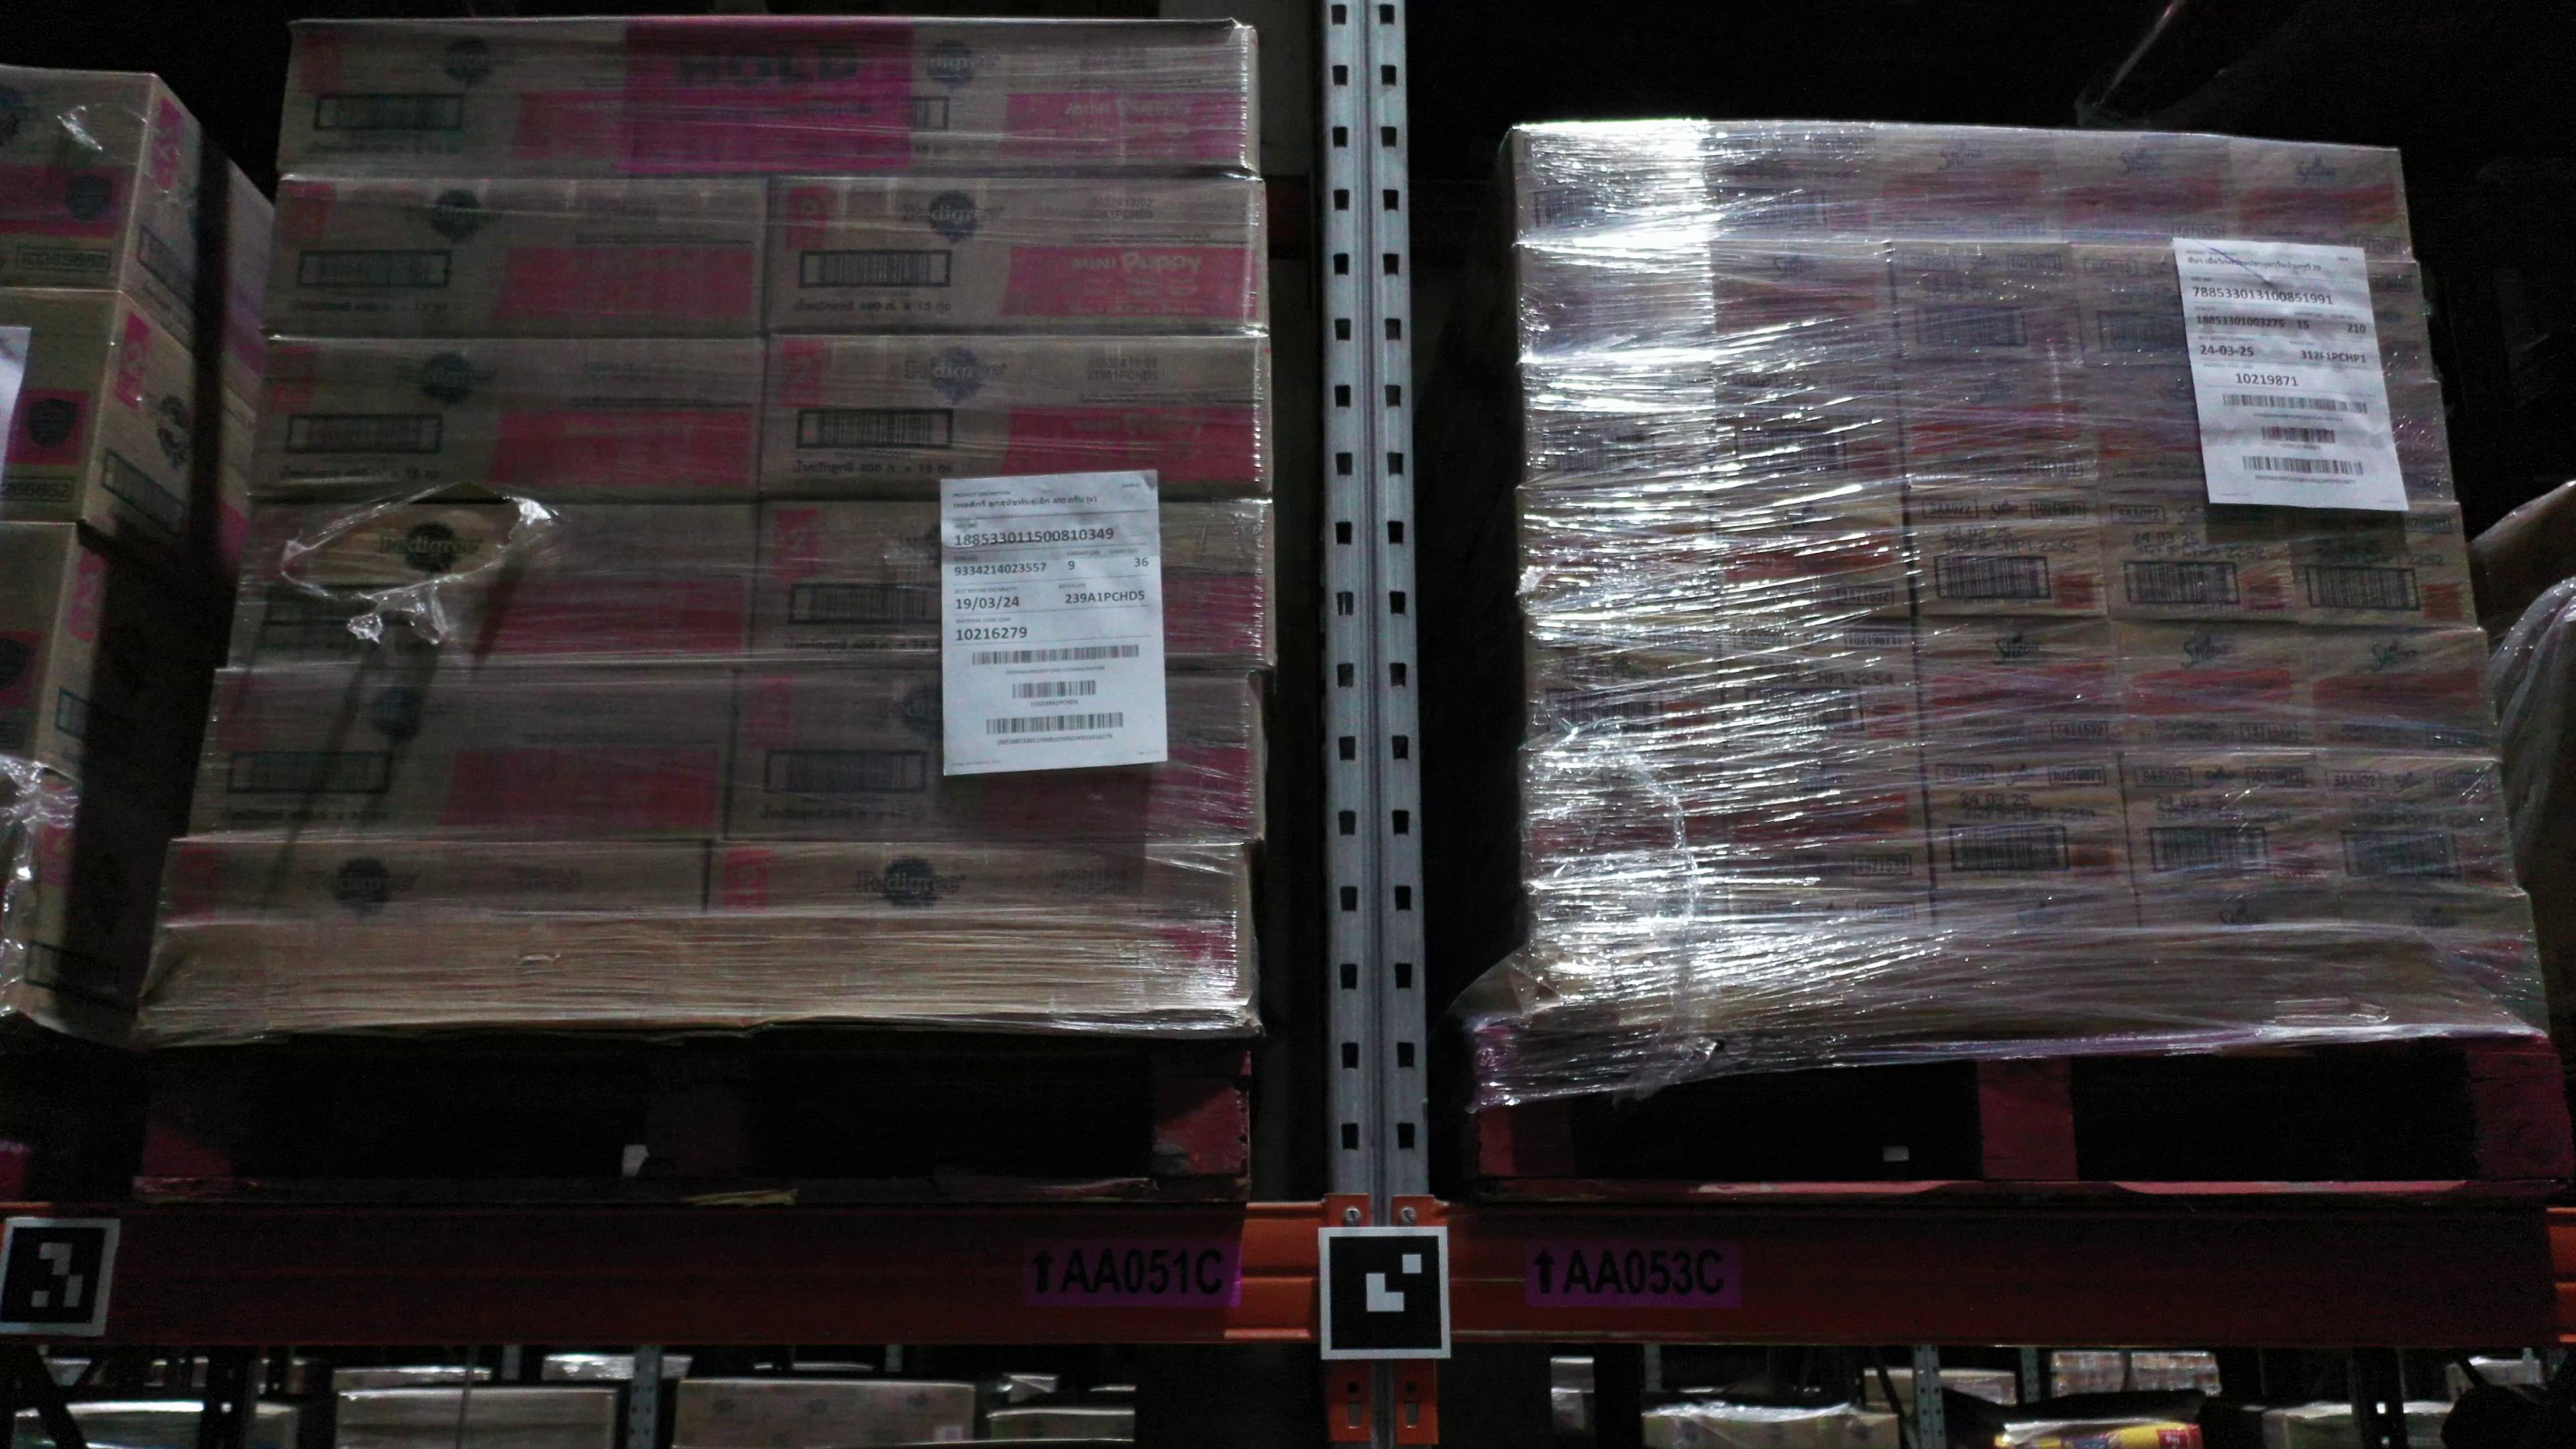-: (724, 667, 1261, 842), (188, 669, 734, 840), (745, 497, 1274, 671), (223, 501, 755, 671), (701, 846, 1238, 1010), (248, 333, 764, 502), (757, 336, 1270, 506), (764, 172, 1269, 336), (264, 175, 770, 338), (274, 18, 777, 175), (768, 16, 1256, 175), (154, 839, 704, 931), (0, 65, 154, 290), (2339, 895, 2553, 1035), (2121, 754, 2332, 895), (2319, 752, 2519, 899), (1923, 754, 2134, 890), (0, 287, 120, 524), (1914, 621, 2127, 754), (1729, 752, 1932, 890), (1527, 617, 1729, 754), (1721, 619, 1925, 754), (2111, 621, 2319, 752), (1907, 483, 2109, 617), (2286, 497, 2482, 633), (2100, 490, 2304, 621), (1527, 754, 1734, 881), (2307, 628, 2502, 763), (1523, 488, 1720, 619), (1516, 119, 1709, 251), (2268, 372, 2456, 508), (1721, 485, 1909, 619), (1523, 364, 1723, 490), (2086, 366, 2282, 494), (1900, 364, 2102, 488), (1523, 244, 1721, 366), (1718, 364, 1905, 492), (1888, 246, 2086, 366), (2074, 246, 2265, 370), (2247, 253, 2434, 379), (2059, 129, 2243, 257), (1704, 244, 1898, 364), (2227, 138, 2415, 262), (1704, 119, 1888, 244), (1881, 126, 2068, 248), (0, 520, 74, 763), (1529, 881, 1734, 943), (1730, 883, 1934, 943), (1930, 886, 2146, 943), (2137, 890, 2344, 939)
